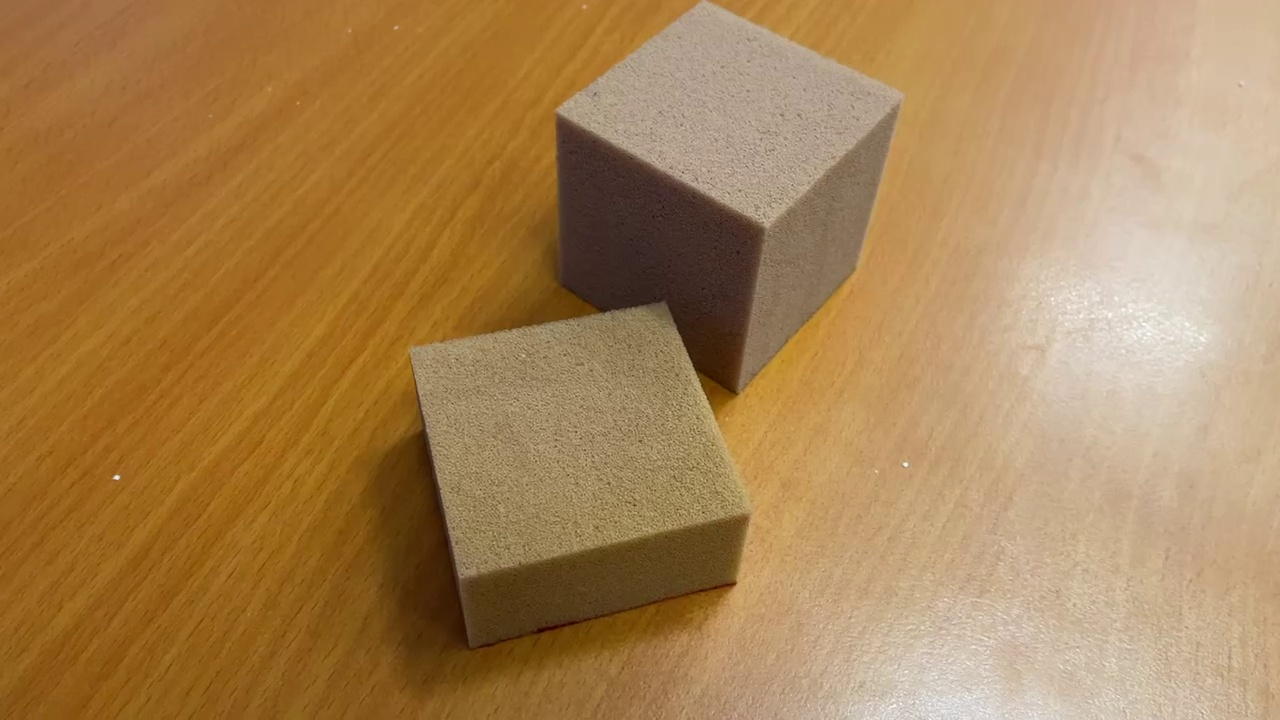Cube: (545, 1, 904, 400)
Cube_short: (399, 292, 758, 653)
